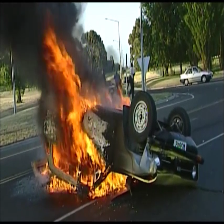fire_h: (43, 18, 112, 188), (88, 172, 128, 199), (46, 176, 77, 194)
fire_l: (116, 85, 131, 111), (41, 161, 51, 175)
